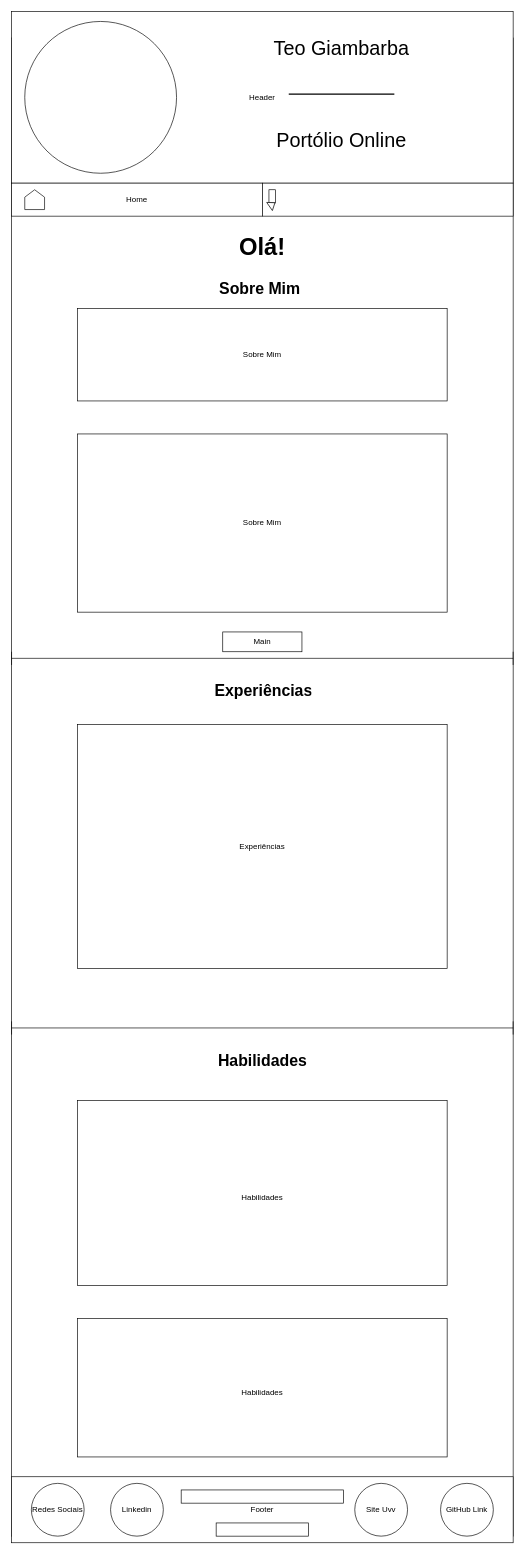
Image size: 525x1554. Some labels were removed from this diagram. The shapes that lost their labels are listed below. From the top down, each one's centre as x and y in pixels, then its label:
the point at 100,97: Foto
the point at 387,199: Projetos
the point at 262,1496: Contatos
the point at 262,1529: Versão da Página
